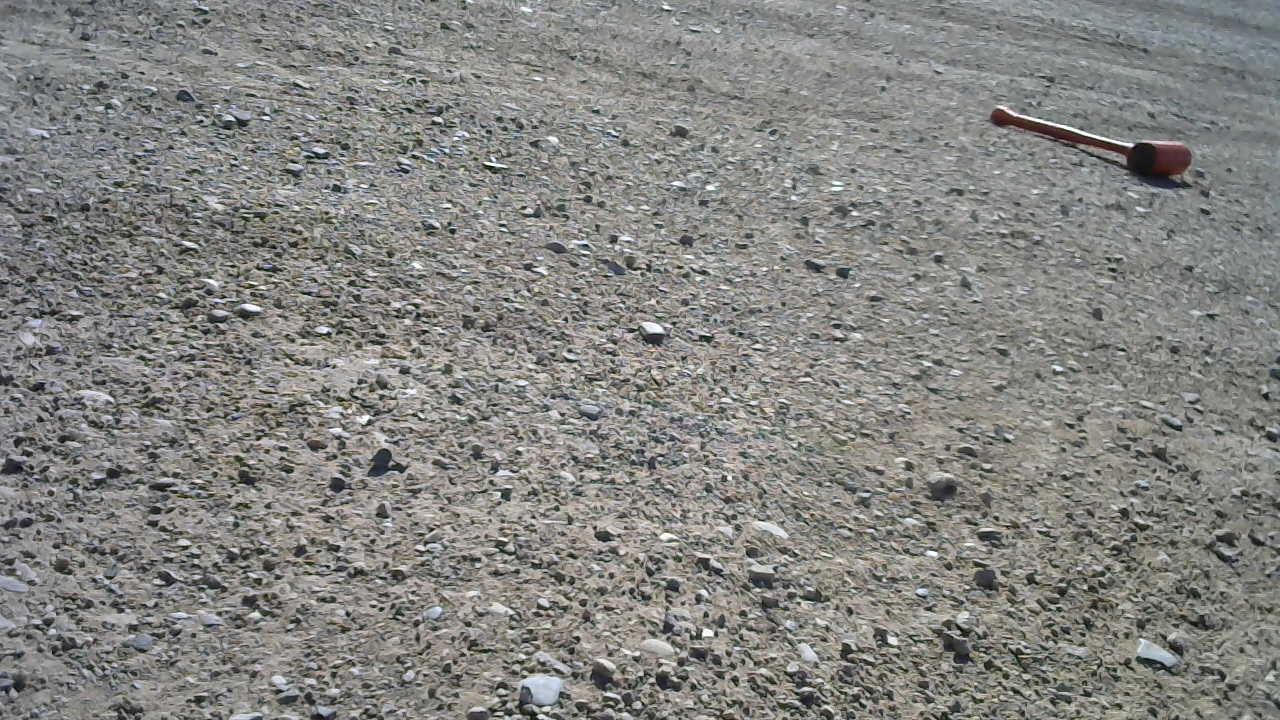hammer: (988, 98, 1193, 178)
